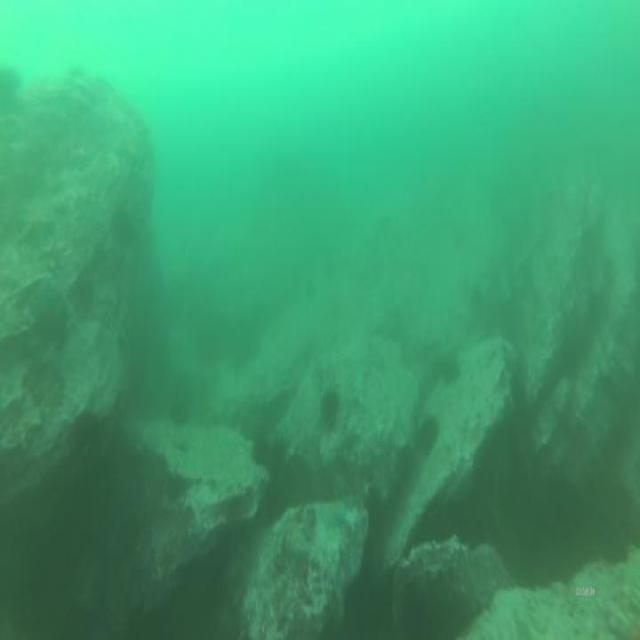echinus: (285, 455, 311, 506), (322, 387, 338, 427), (438, 357, 458, 383), (420, 416, 434, 448)
starfish: (322, 498, 346, 529)
